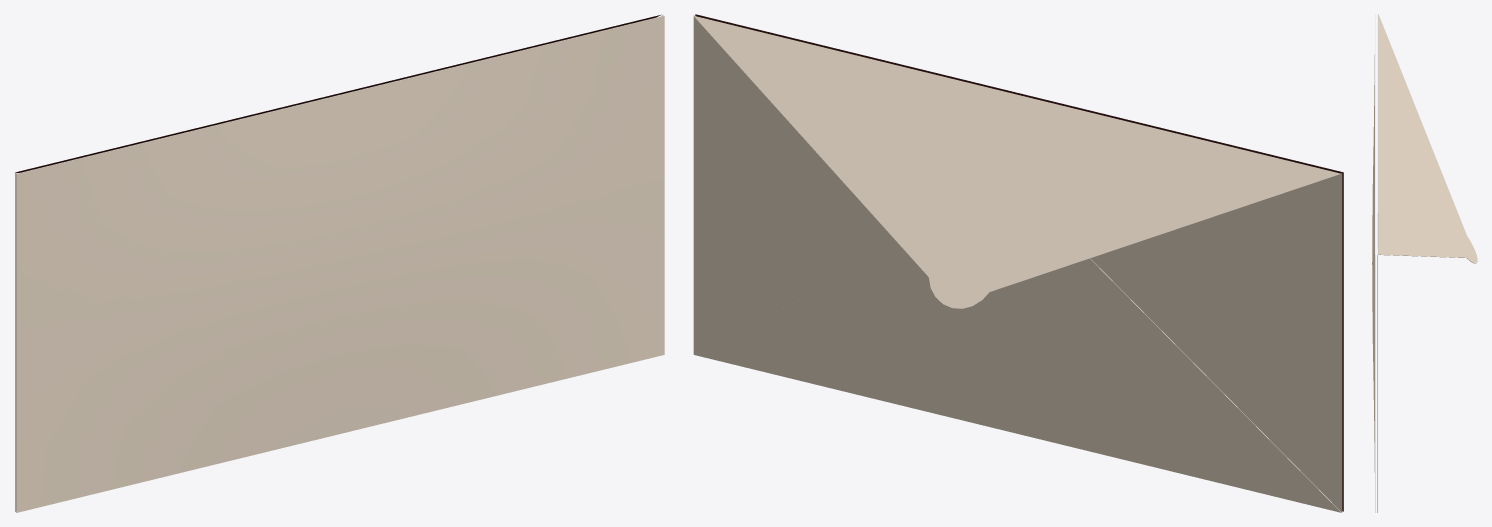
Rendered from envelope.glb.
3 renders of one model, left to right at view 1: azimuth 30°, elevation 25°; view 2: azimuth 150°, elevation 25°; view 3: azimuth 270°, elevation 25°, orthographic. The views are drawn at different scales.
Parts seen in each view (by area): view 1: env_front, env_flap; view 2: env_flap, env_bottom, env_side_l, env_side_r, env_front; view 3: env_flap, env_front, env_bottom, env_side_r, env_side_l.
Part boxes in pixels (<box>): env_front: <box>16,15,664,512</box>; env_flap: <box>14,14,662,172</box>; env_flap: <box>693,15,1341,308</box>; env_bottom: <box>694,246,1341,512</box>; env_side_l: <box>1090,173,1342,512</box>; env_side_r: <box>693,15,900,353</box>; env_front: <box>695,14,1343,511</box>; env_flap: <box>1378,14,1477,263</box>; env_front: <box>1372,14,1375,512</box>; env_bottom: <box>1377,213,1378,512</box>; env_side_r: <box>1377,255,1377,512</box>; env_side_l: <box>1377,14,1377,254</box>.
Bounding box in the file's own units: 0.22 × 0.11 × 0.0408.
